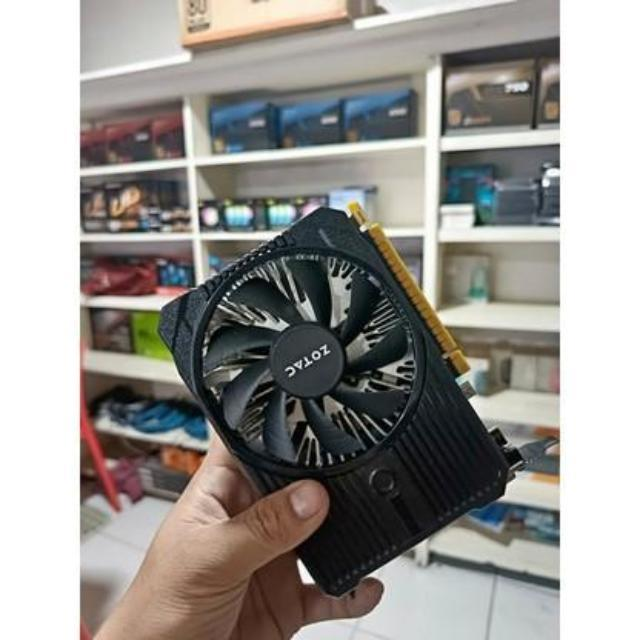GPU: (154, 195, 524, 600)
